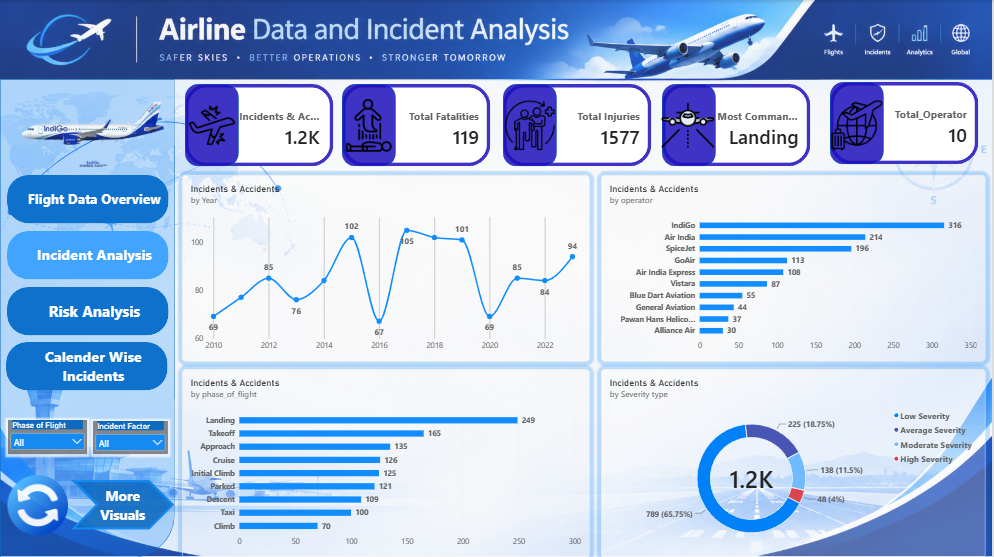

The dashboard page shown, as its layout file describes it:
{"tool":"powerbi","page":{"name":"Page 2","canvas":[1920,1080],"ordinal":1},"visuals":[{"type":"shape","box":[0,153.1,338,926.9],"z":0},{"type":"cardVisual","fields":{"Data":["dgca_aviation_incidents_2010_2023.Total_Operator"]},"box":[1606.4,159.6,287,159.4],"z":0,"group":"g1"},{"type":"cardVisual","fields":{"Data":["dgca_aviation_incidents_2010_2023.Total incidents"]},"box":[357.4,161.7,287,159.4],"z":0,"group":"g5"},{"type":"cardVisual","fields":{"Data":["dgca_aviation_incidents_2010_2023.Total Fatalities"]},"box":[661.7,161.7,287,159.4],"z":0,"group":"g4"},{"type":"cardVisual","fields":{"Data":["dgca_aviation_incidents_2010_2023.Total Injuries"]},"box":[974.5,161.7,287,159.4],"z":0,"group":"g3"},{"type":"cardVisual","fields":{"Data":["dgca_aviation_incidents_2010_2023.Most Comman Pharse"]},"box":[1280.9,161.7,287,159.4],"z":0,"group":"g2"},{"type":"shape","box":[1606.4,159.6,104.2,159.4],"z":1000,"group":"g1"},{"type":"group","id":"g1","title":"Group 1","box":[1606.4,159.6,287.2,159.6],"z":1000},{"type":"shape","box":[357.4,161.7,104.2,159.4],"z":1000,"group":"g5"},{"type":"shape","box":[661.7,161.7,104.2,159.4],"z":1000,"group":"g4"},{"type":"shape","box":[974.5,161.7,104.2,159.4],"z":1000,"group":"g3"},{"type":"shape","box":[1280.9,161.7,104.2,159.4],"z":1000,"group":"g2"},{"type":"group","id":"g2","title":"Group 1","box":[1280.9,161.7,287.2,159.6],"z":2000},{"type":"group","id":"g3","title":"Group 1","box":[974.5,161.7,287.2,159.6],"z":3000},{"type":"group","id":"g4","title":"Group 1","box":[661.7,161.7,285.1,159.6],"z":4000},{"type":"group","id":"g5","title":"Group 1","box":[357.4,161.7,285.1,159.6],"z":5000},{"type":"lineChart","fields":{"Category":["dgca_aviation_incidents_2010_2023.date.Variation.Date Hierarchy.Year","dgca_aviation_incidents_2010_2023.date.Variation.Date Hierarchy.Quarter","dgca_aviation_incidents_2010_2023.date.Variation.Date Hierarchy.Month","dgca_aviation_incidents_2010_2023.date.Variation.Date Hierarchy.Day"],"Y":["dgca_aviation_incidents_2010_2023.incidents & Accidents"]},"box":[352.9,338,788.7,361.4],"z":6000},{"type":"clusteredBarChart","fields":{"Category":["dgca_aviation_incidents_2010_2023.operator"],"Y":["dgca_aviation_incidents_2010_2023.incidents & Accidents"]},"box":[1162.9,338,744.1,361.4],"z":7000},{"type":"donutChart","fields":{"Category":["dgca_aviation_incidents_2010_2023.Severity type"],"Y":["dgca_aviation_incidents_2010_2023.incidents & Accidents"]},"box":[1162.9,714.3,744.1,365.7],"z":8000},{"type":"clusteredBarChart","fields":{"Category":["dgca_aviation_incidents_2010_2023.phase_of_flight"],"Y":["dgca_aviation_incidents_2010_2023.incidents & Accidents"]},"box":[352.9,714.3,788.7,365.7],"z":9000},{"type":"image","box":[357.2,191.3,104.2,102],"z":13000},{"type":"image","box":[1607.2,191.3,104.2,102],"z":14000},{"type":"image","box":[1279.8,191.3,104.2,102],"z":15000},{"type":"image","box":[661.2,191.3,104.2,102],"z":16000},{"type":"image","box":[973.7,191.3,104.2,102],"z":17000},{"type":"image","box":[0,172.2,361.4,159.4],"z":18000},{"type":"slicer","fields":{"Values":["dgca_aviation_incidents_2010_2023.year"]},"box":[180.7,814.3,144.6,63.8],"z":19000},{"type":"slicer","fields":{"Values":["dgca_aviation_incidents_2010_2023.airport"]},"box":[14.9,812.1,153.1,65.9],"z":20000},{"type":"image","box":[12.8,918.4,119.1,116.9],"z":21000},{"type":"actionButton","box":[12.8,338,312.5,93.5],"z":23000},{"type":"actionButton","box":[12.8,554.9,312.5,93.5],"z":24000},{"type":"actionButton","box":[12,662,312.5,93.5],"z":25000},{"type":"shape","box":[138.2,929.1,199.8,95.7],"z":26000},{"type":"actionButton","box":[13.4,446.4,312.5,93.5],"z":28000}]}

Visuals, with their boxes in screenshot pixels (x1, y1, x2, y2), scaled from the page's 1920x1080 canvas onto the 994x557 screenshot:
shape: bbox(0, 79, 175, 556)
cardVisual - dgca_aviation_incidents_2010_2023.Total_Operator: bbox(832, 82, 980, 165)
cardVisual - dgca_aviation_incidents_2010_2023.Total incidents: bbox(185, 83, 334, 166)
cardVisual - dgca_aviation_incidents_2010_2023.Total Fatalities: bbox(343, 83, 491, 166)
cardVisual - dgca_aviation_incidents_2010_2023.Total Injuries: bbox(505, 83, 653, 166)
cardVisual - dgca_aviation_incidents_2010_2023.Most Comman Pharse: bbox(663, 83, 812, 166)
shape: bbox(832, 82, 886, 165)
"Group 1" group: bbox(832, 82, 980, 165)
shape: bbox(185, 83, 239, 166)
shape: bbox(343, 83, 397, 166)
shape: bbox(505, 83, 558, 166)
shape: bbox(663, 83, 717, 166)
"Group 1" group: bbox(663, 83, 812, 166)
"Group 1" group: bbox(505, 83, 653, 166)
"Group 1" group: bbox(343, 83, 490, 166)
"Group 1" group: bbox(185, 83, 333, 166)
lineChart - dgca_aviation_incidents_2010_2023.date.Variation.Date Hierarchy.Year x dgca_aviation_incidents_2010_2023.date.Variation.Date Hierarchy.Quarter: bbox(183, 174, 591, 361)
clusteredBarChart - dgca_aviation_incidents_2010_2023.operator x dgca_aviation_incidents_2010_2023.incidents & Accidents: bbox(602, 174, 987, 361)
donutChart - dgca_aviation_incidents_2010_2023.Severity type x dgca_aviation_incidents_2010_2023.incidents & Accidents: bbox(602, 368, 987, 556)
clusteredBarChart - dgca_aviation_incidents_2010_2023.phase_of_flight x dgca_aviation_incidents_2010_2023.incidents & Accidents: bbox(183, 368, 591, 556)
image: bbox(185, 99, 239, 151)
image: bbox(832, 99, 886, 151)
image: bbox(663, 99, 717, 151)
image: bbox(342, 99, 396, 151)
image: bbox(504, 99, 558, 151)
image: bbox(0, 89, 187, 171)
slicer - dgca_aviation_incidents_2010_2023.year: bbox(94, 420, 168, 453)
slicer - dgca_aviation_incidents_2010_2023.airport: bbox(8, 419, 87, 453)
image: bbox(7, 474, 68, 534)
actionButton: bbox(7, 174, 168, 223)
actionButton: bbox(7, 286, 168, 334)
actionButton: bbox(6, 341, 168, 390)
shape: bbox(72, 479, 175, 529)
actionButton: bbox(7, 230, 169, 278)
